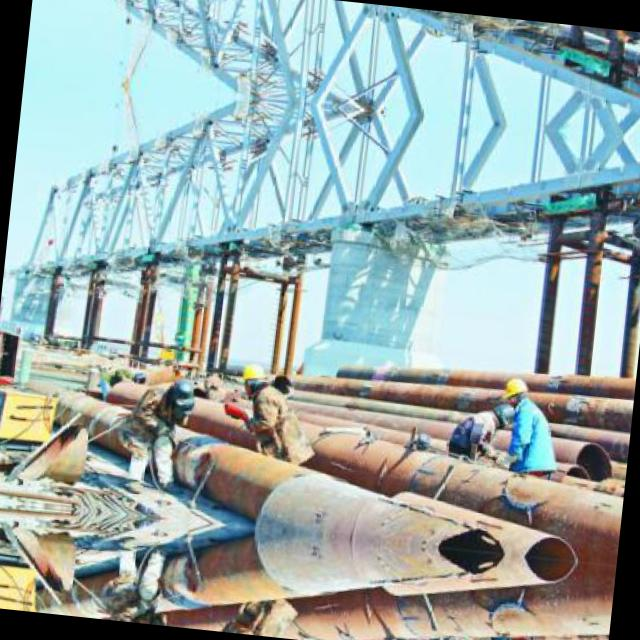helmet: (236, 358, 266, 398), (502, 374, 531, 406)
